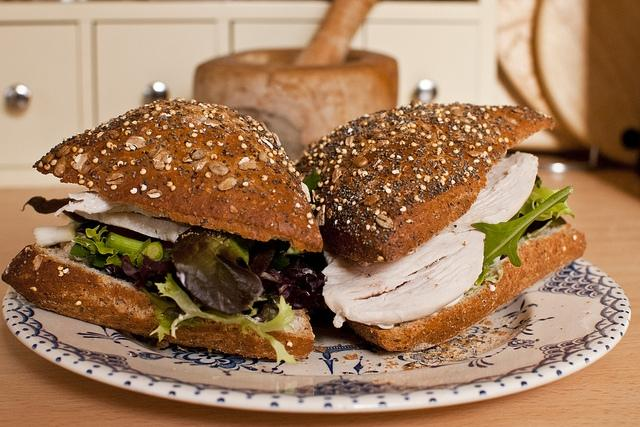lettuce: (154, 274, 298, 366), (468, 185, 574, 291), (172, 227, 264, 314), (98, 254, 218, 311), (264, 259, 326, 315), (507, 174, 575, 222), (72, 225, 122, 266), (136, 239, 151, 255)
